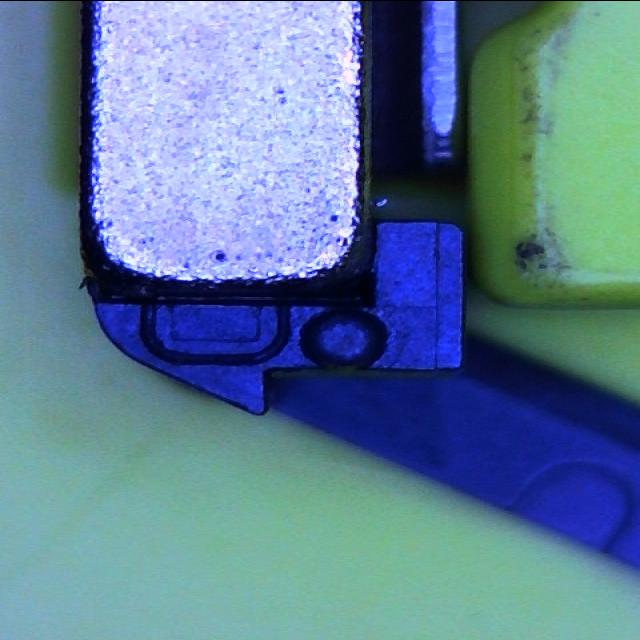lacking: (137, 296, 290, 368)
